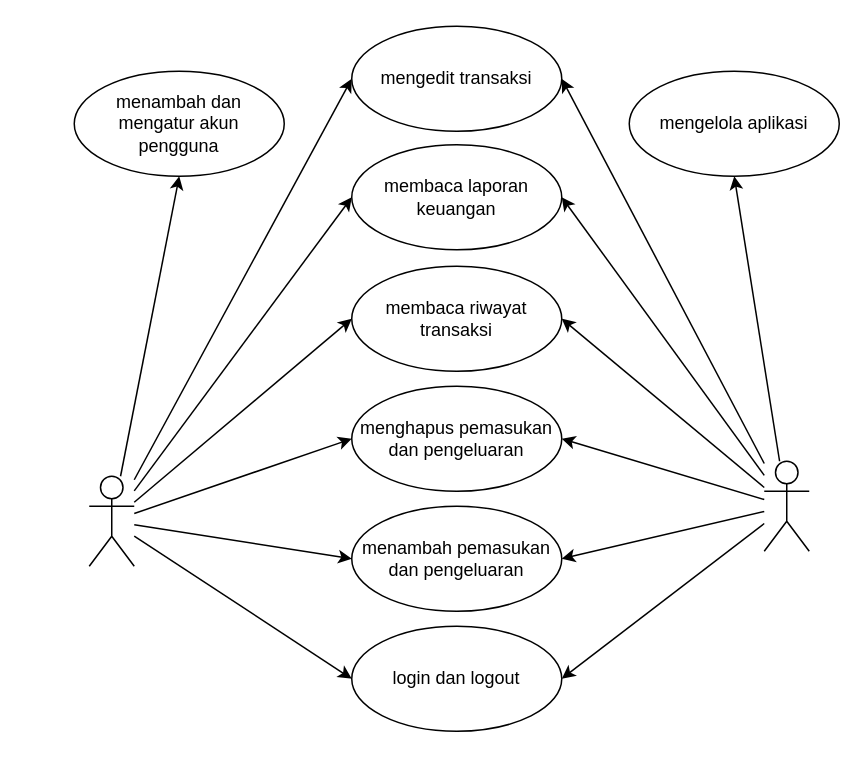
Some shapes in this 866 by 758 pixel diagram are drawn without their labels. The shapes that lost their labels are listed below. From the top down, each one's centre as x and y in pixels, then its label:
pixel 111 520: pengguna teregistrasi
pixel 786 505: admin
